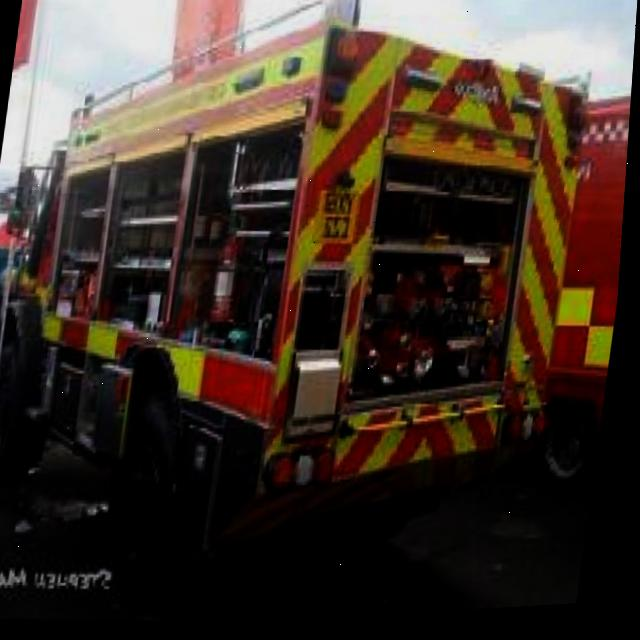emergency: (0, 0, 623, 605)
